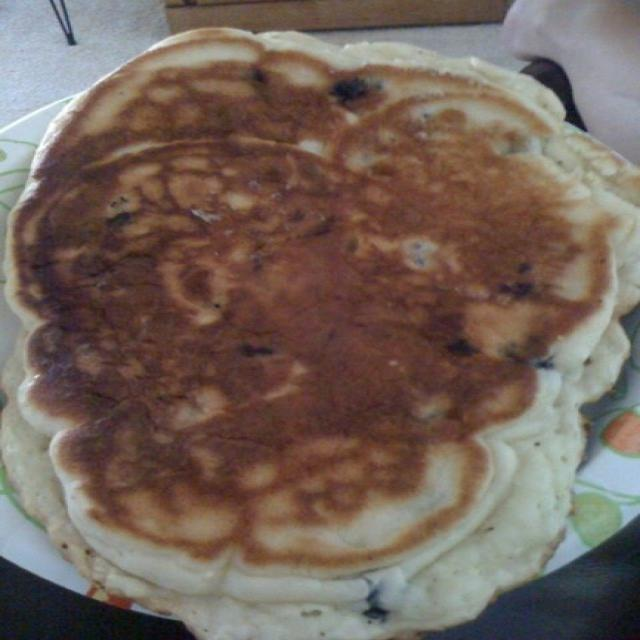蛋糕甜品: (9, 13, 632, 621)
